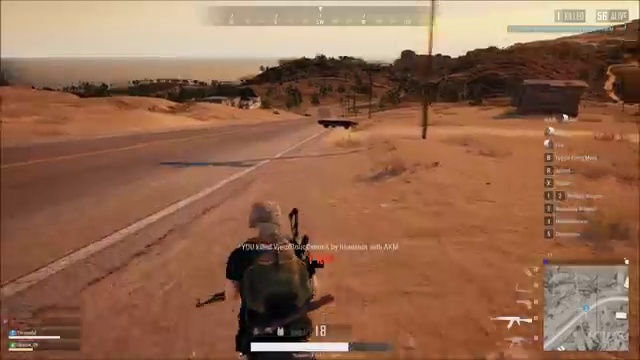Player: (196, 178, 361, 321)
